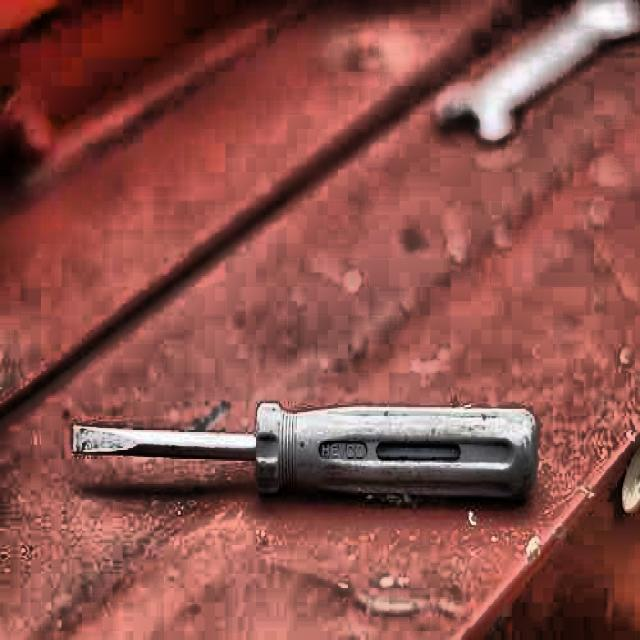screwdriver: (72, 402, 536, 508)
